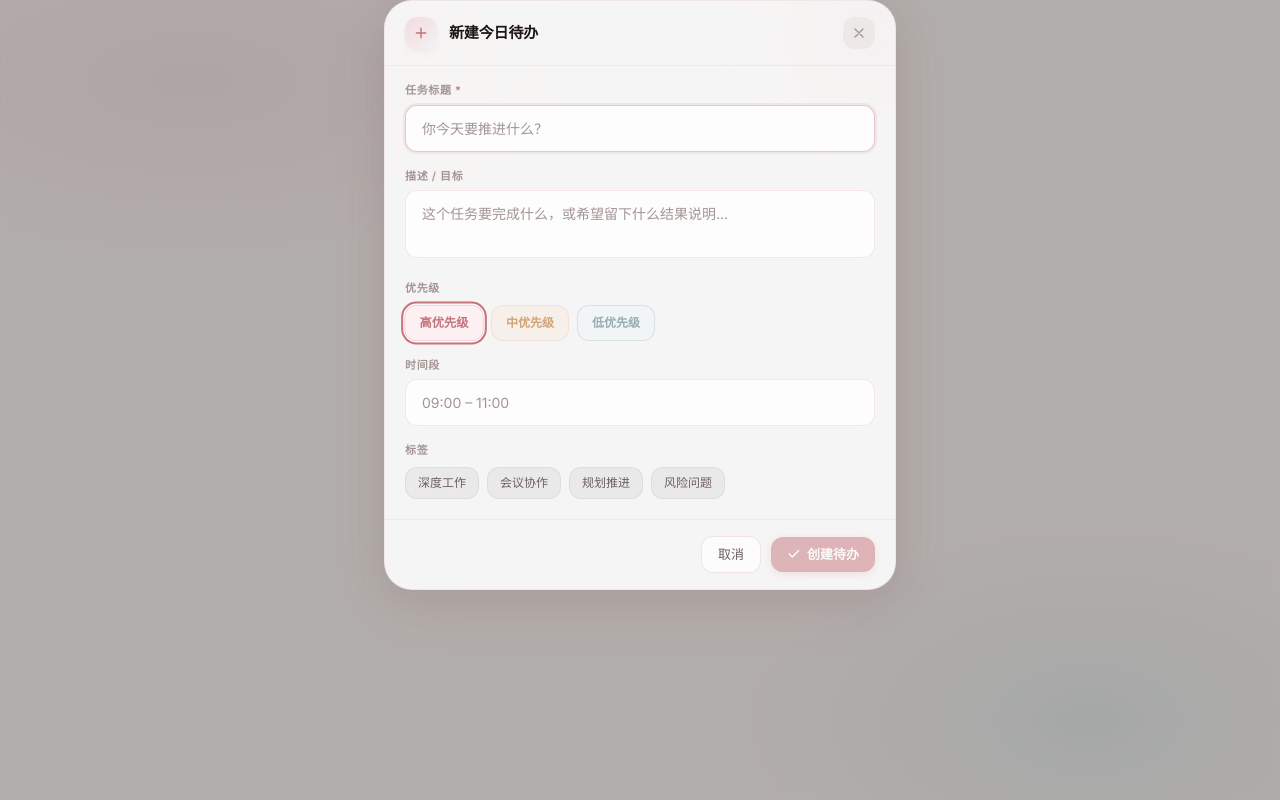
submit button › shows "创建中…" and is disabled while submitting
In the field with placeholder "你今天要推进什么？": (640, 128) [405,104,875,152], type "写周报"
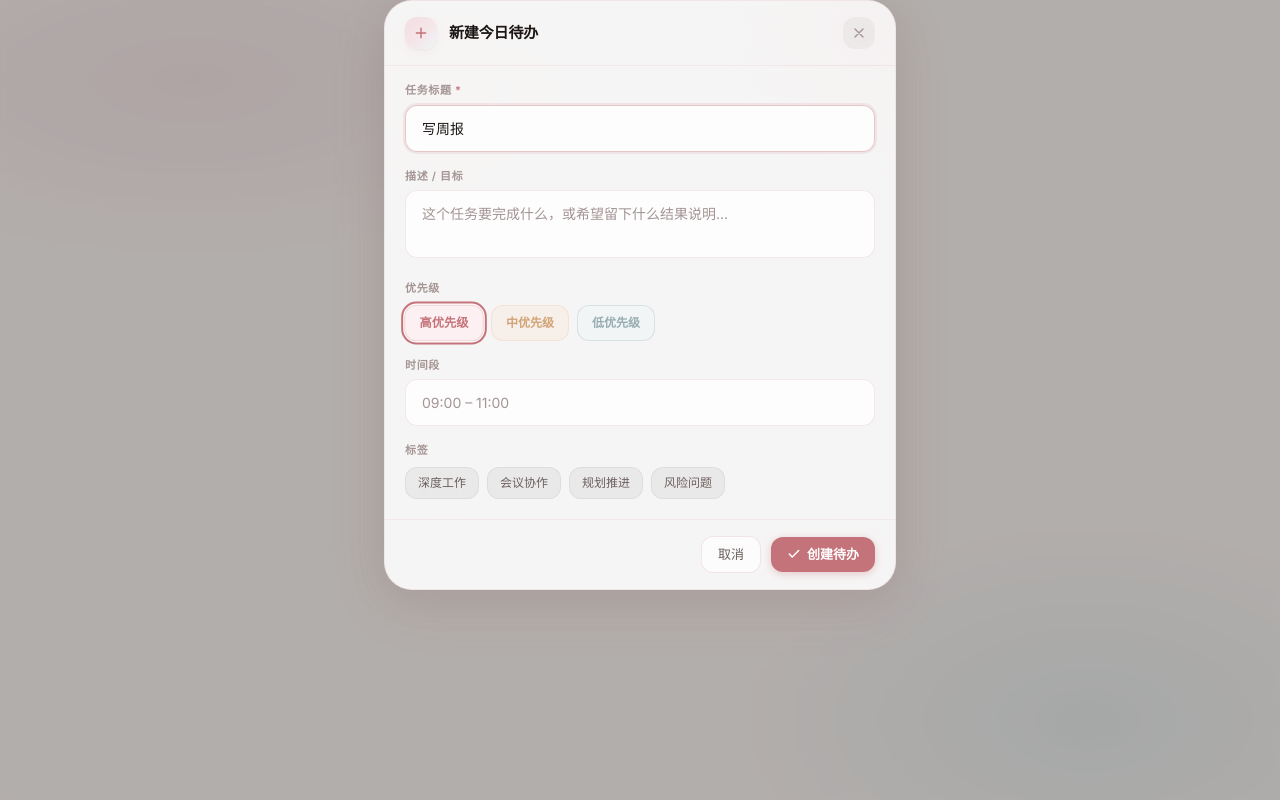
Click the button "创建待办": (823, 554) [771,536,875,572]
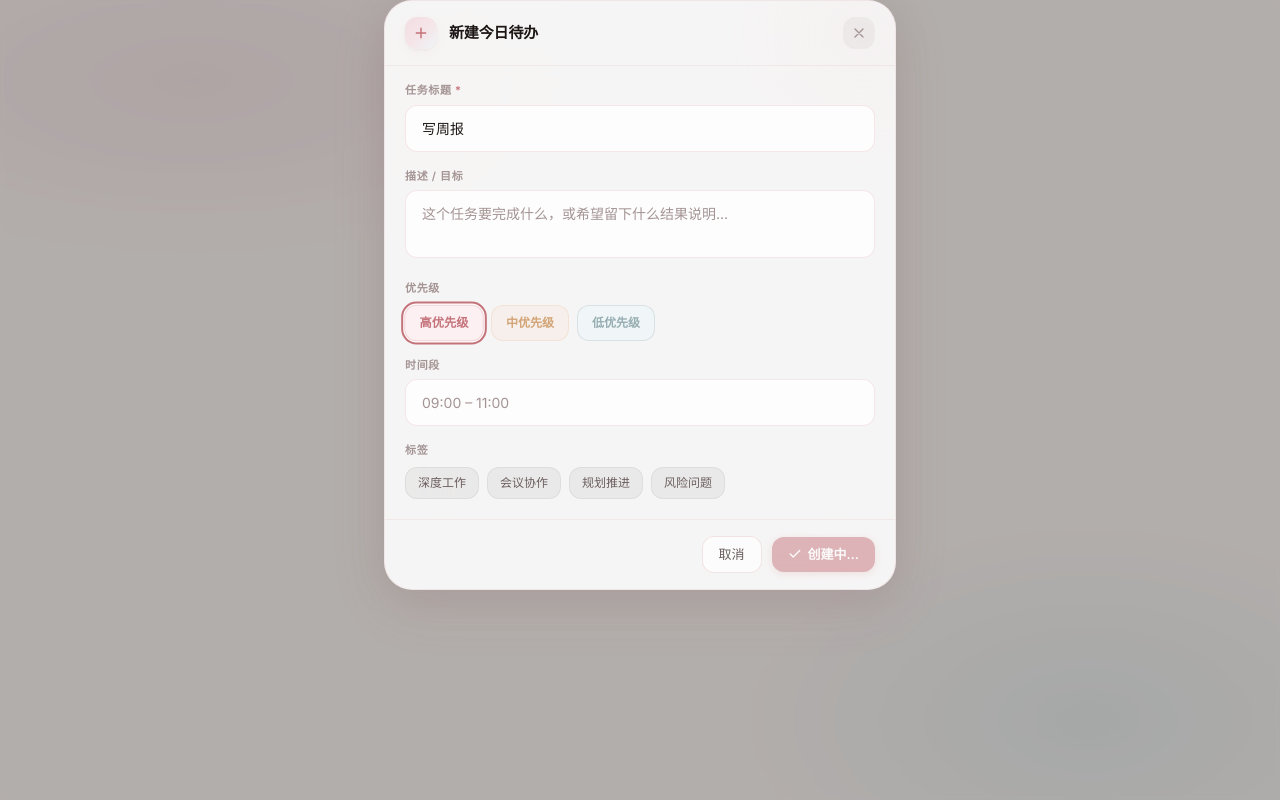
Expected: the button "创建中…" is disabled, [772,536,875,572]
